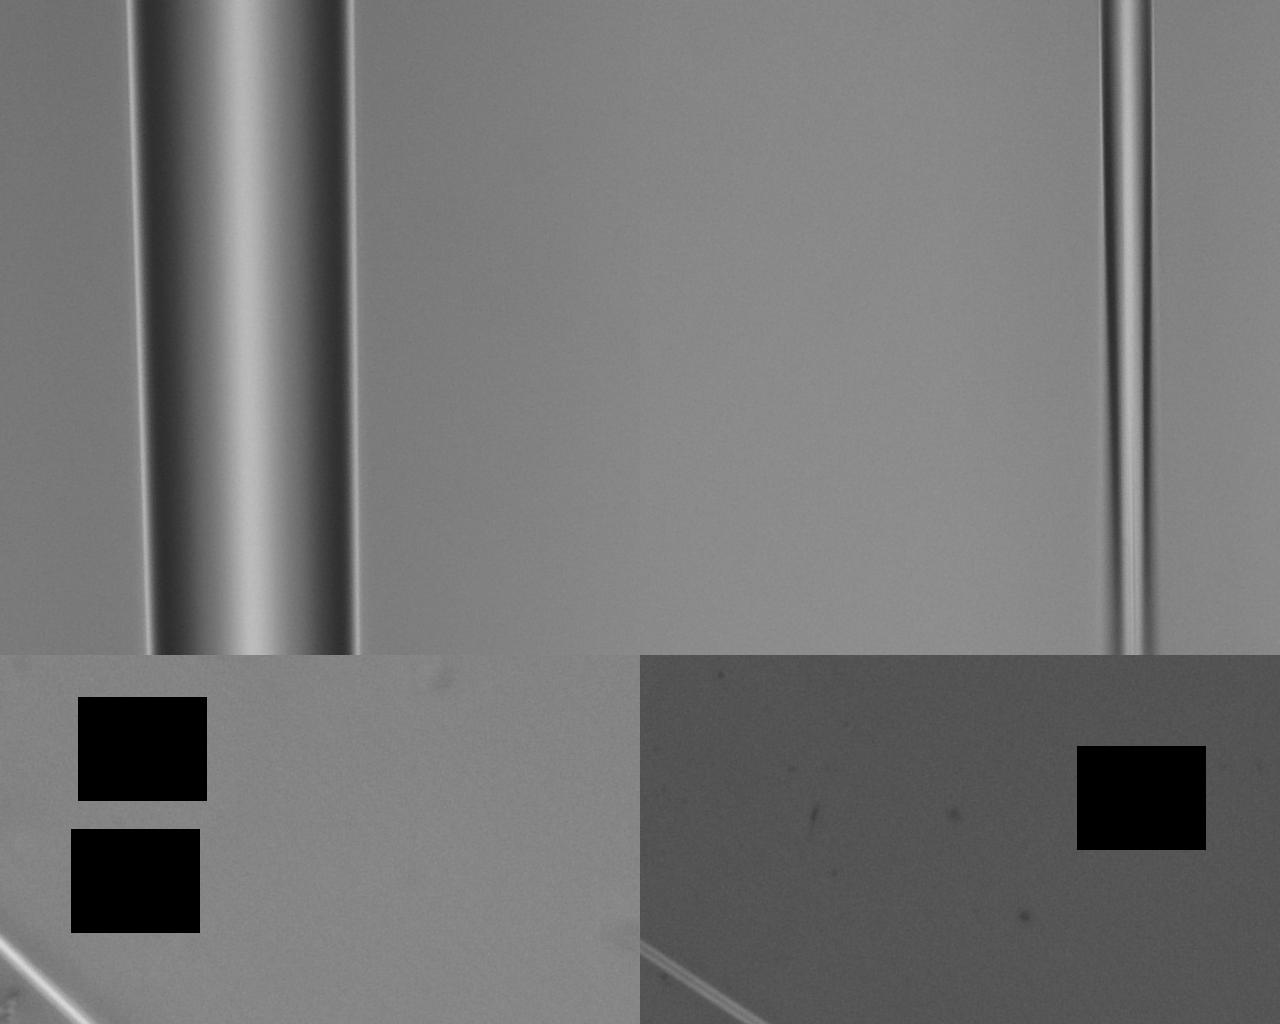fiber: (0, 500, 537, 646), (0, 249, 519, 378), (696, 378, 724, 1024)
